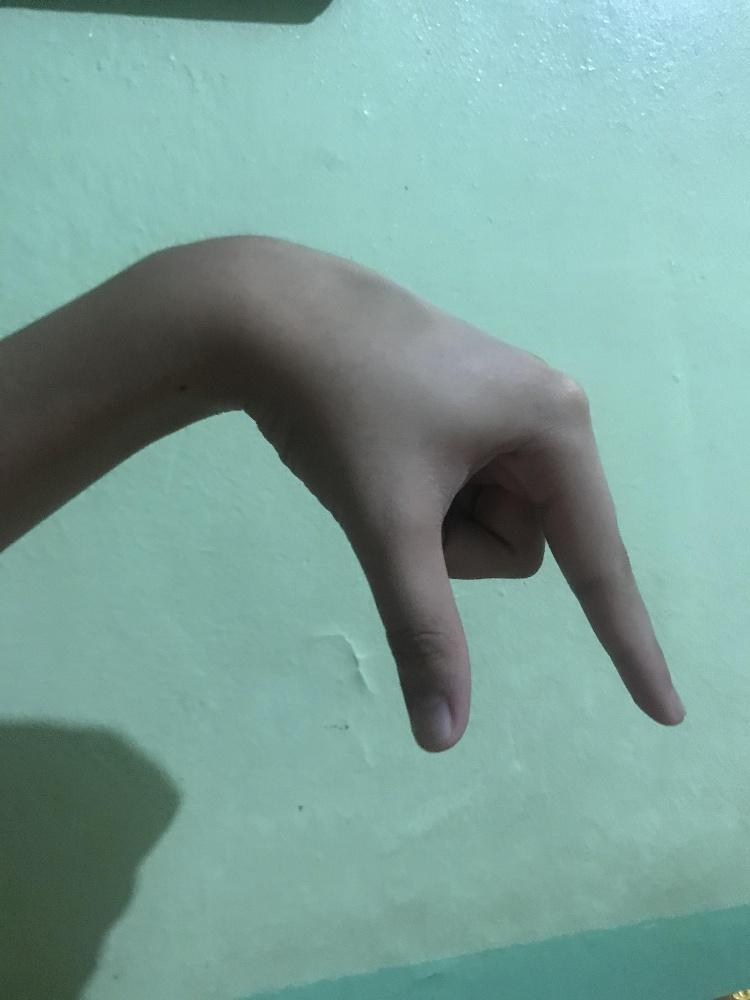q: (234, 224, 689, 759)
